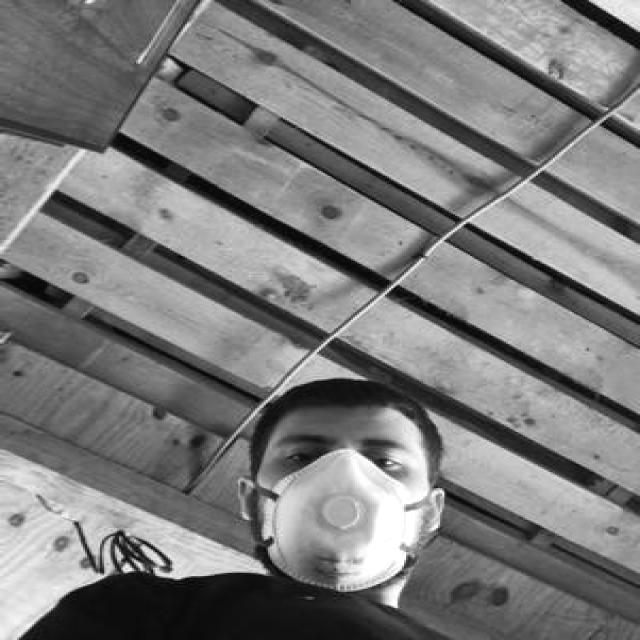face_mask: (255, 421, 428, 590)
head_nohelmet: (259, 376, 436, 434)
person: (0, 390, 572, 640)
